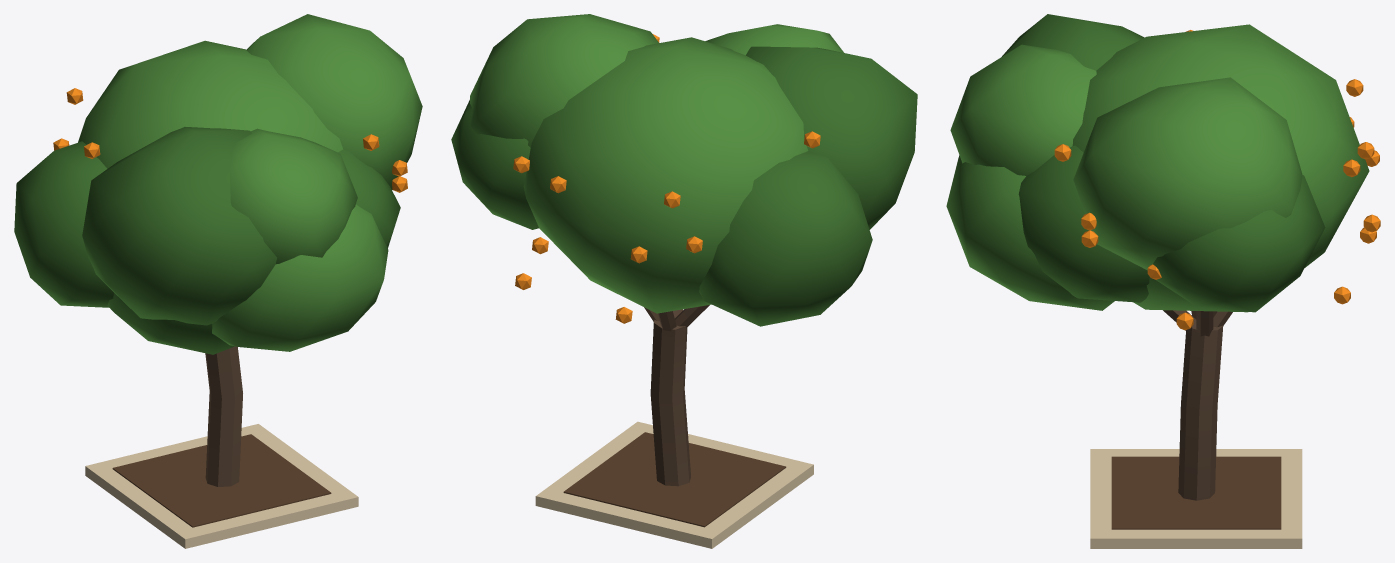
The picture shows the model from 3 angles, left to right: view 1: azimuth 30°, elevation 25°; view 2: azimuth 150°, elevation 25°; view 3: azimuth 270°, elevation 25°; orthographic projection. The views are drawn at different scales.
Visible parts, largest first — view 1: orange_tree.lod0; view 2: orange_tree.lod0; view 3: orange_tree.lod0.
Boxes of the visible parts, box(x1,y1,x2,y2) form: orange_tree.lod0: box(14, 14, 422, 548); orange_tree.lod0: box(451, 14, 917, 548); orange_tree.lod0: box(946, 14, 1380, 548).
Size of the model in its own units: 3.29 by 3.64 by 3.07.
